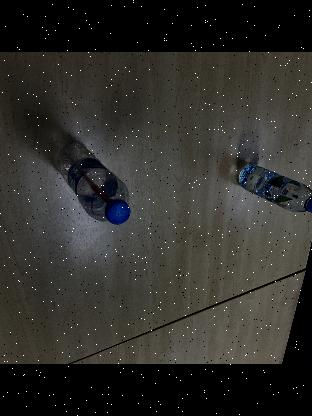Plastic Bottle: (55, 141, 131, 223), (235, 164, 312, 214)
